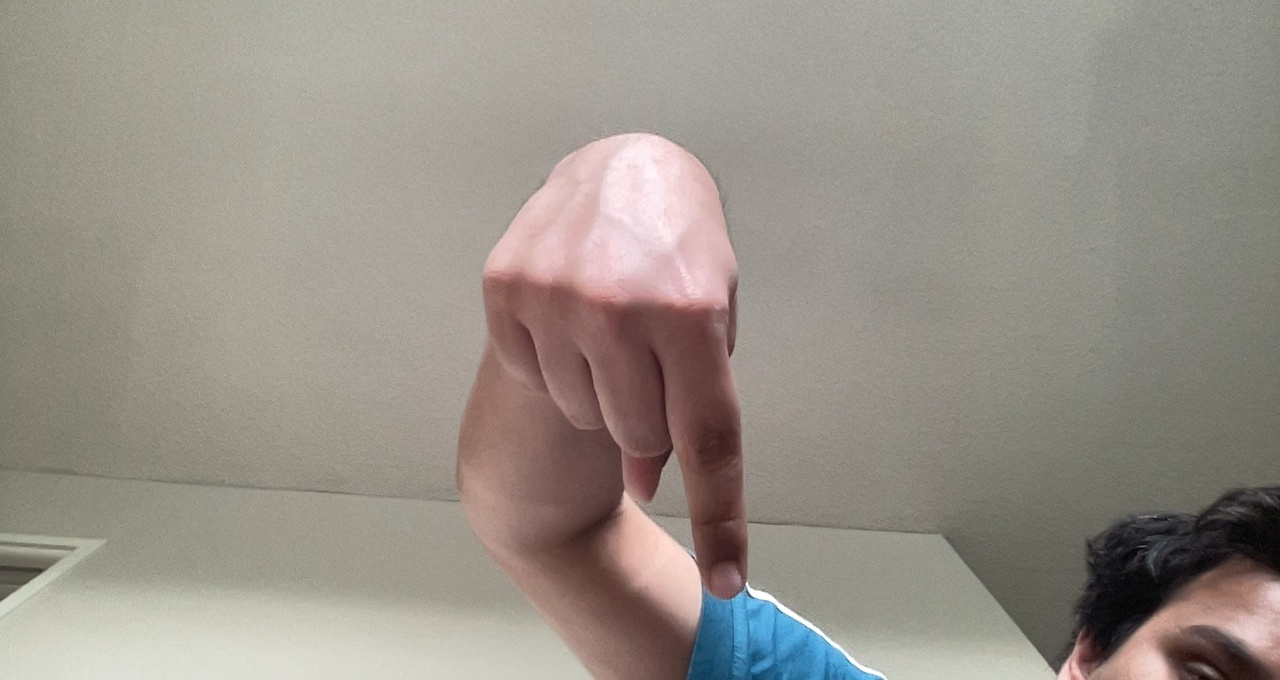fingerdown: (472, 125, 756, 607)
